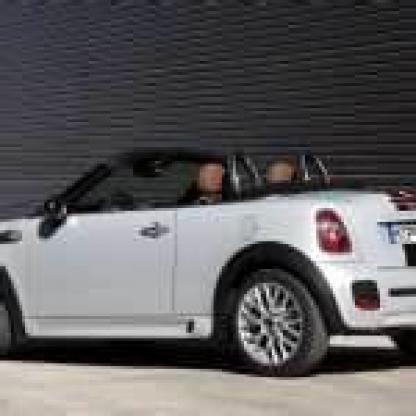Vehicle: (3, 158, 413, 380)
